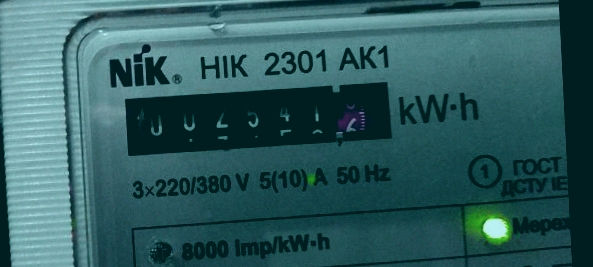0: (178, 99, 198, 133), (147, 107, 165, 137)
1: (305, 90, 323, 124)
2: (209, 97, 231, 132)
4: (274, 93, 293, 124)
5: (243, 97, 260, 130)
6: (342, 112, 359, 134)
screen: (109, 66, 413, 171)
